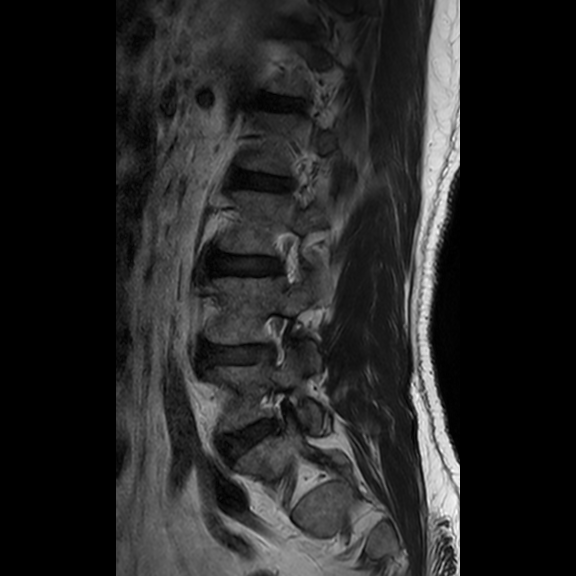LFS0: (266, 218, 310, 293)
LFS1: (256, 303, 300, 378)
